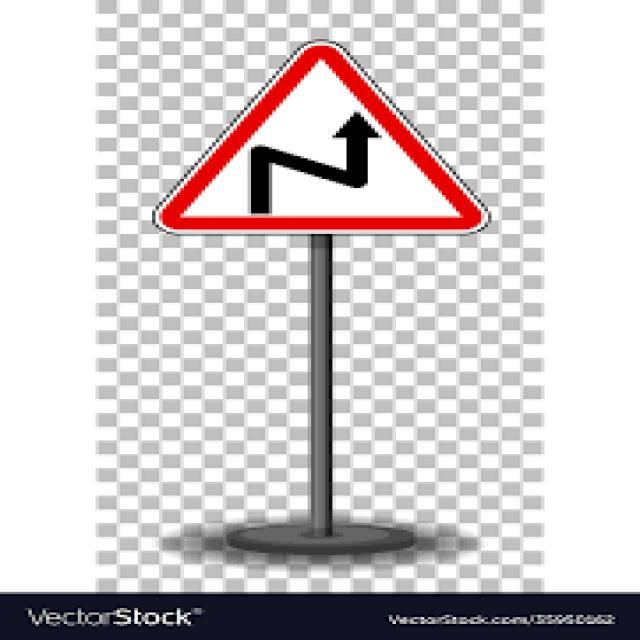right reverse bend: (157, 44, 485, 237)
